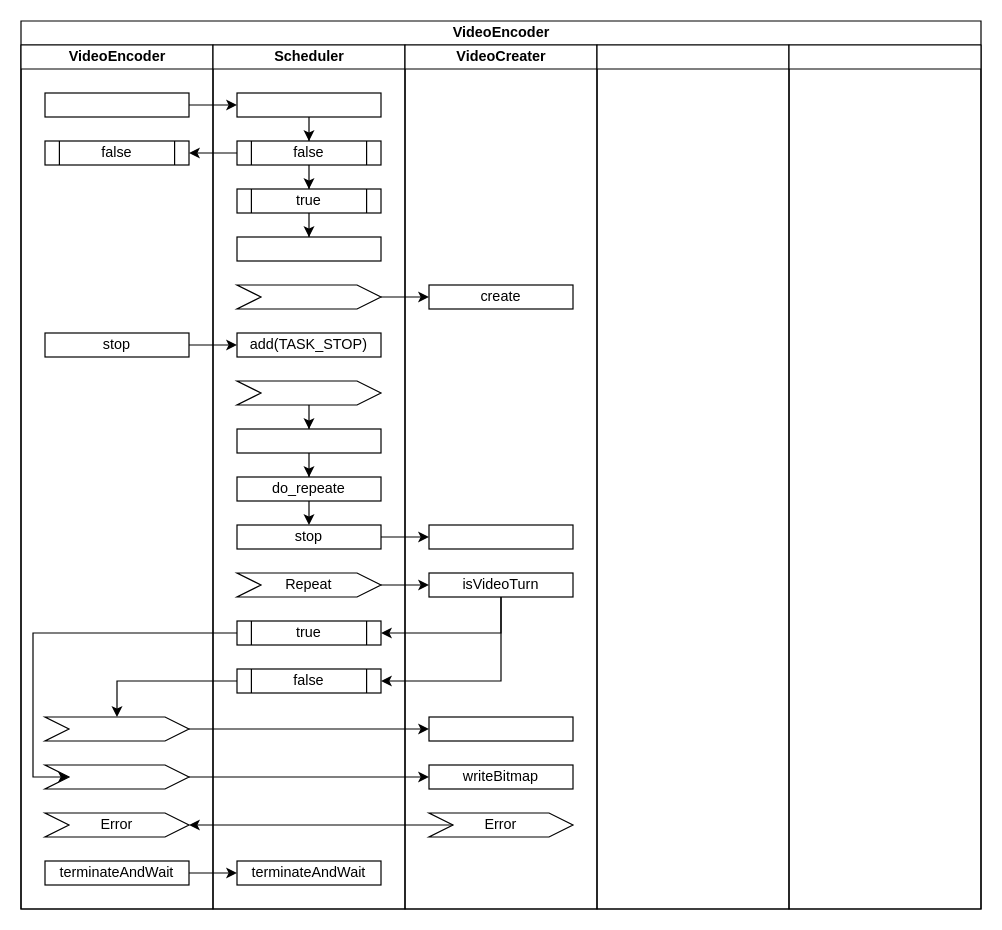
Some shapes in this 1002 by 930 pixel diagram are drawn without their labels. Each missing label, with the centre of its shape:
"add(TASK_START)" belongs at (308,248).
"delete" belongs at (500,536).
"isStarted" belongs at (308,104).
"NeedAudio" belongs at (116,728).
"NeedVideo" belongs at (116,776).
"start" belongs at (116,104).
"TASK_START" belongs at (308,296).
"TASK_STOP" belongs at (308,392).
"while audio != nil" belongs at (308,440).
"writeAudioPacket" belongs at (500,728).
